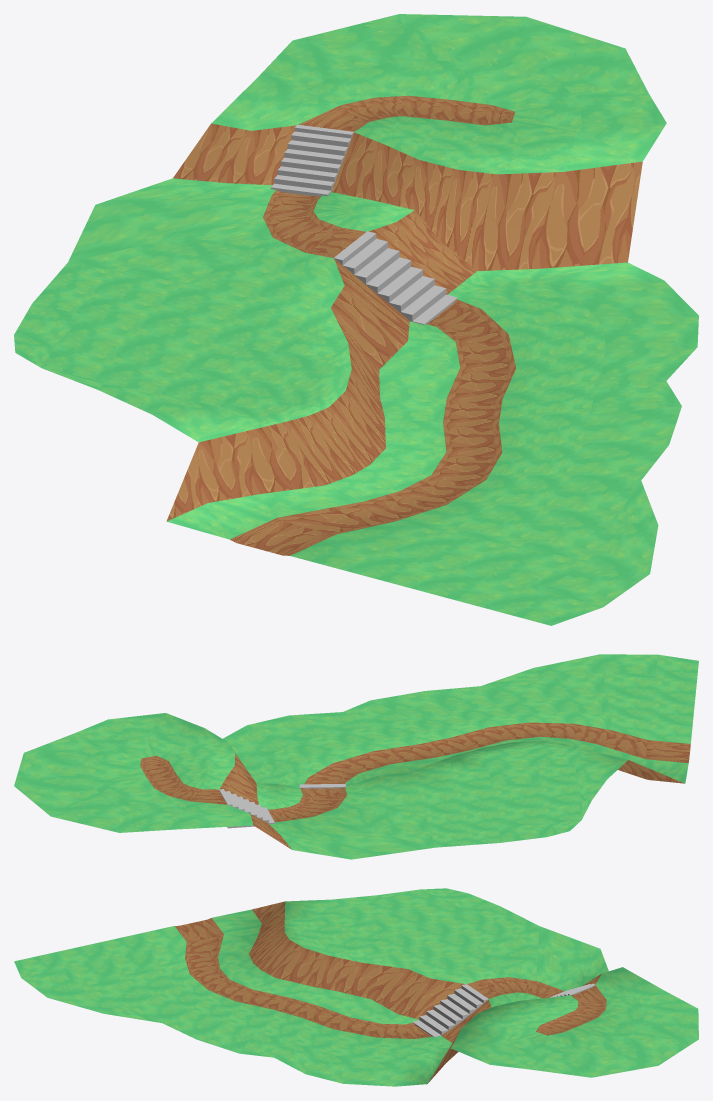
Rendered from terrain.obj.
3 views of the same model, one above another, from view 1: azimuth 30°, elevation 25°; view 2: azimuth 150°, elevation 25°; view 3: azimuth 270°, elevation 25° (orthographic). The views are drawn at different scales.
Visible parts, largest first — view 1: terrain.001; view 2: terrain.001; view 3: terrain.001.
Part boxes in pixels (<box>): terrain.001: <box>14,14,698,625</box>; terrain.001: <box>14,654,698,859</box>; terrain.001: <box>14,888,698,1086</box>.
Size of the model in its own units: 32.59 by 3.43 by 44.09.
